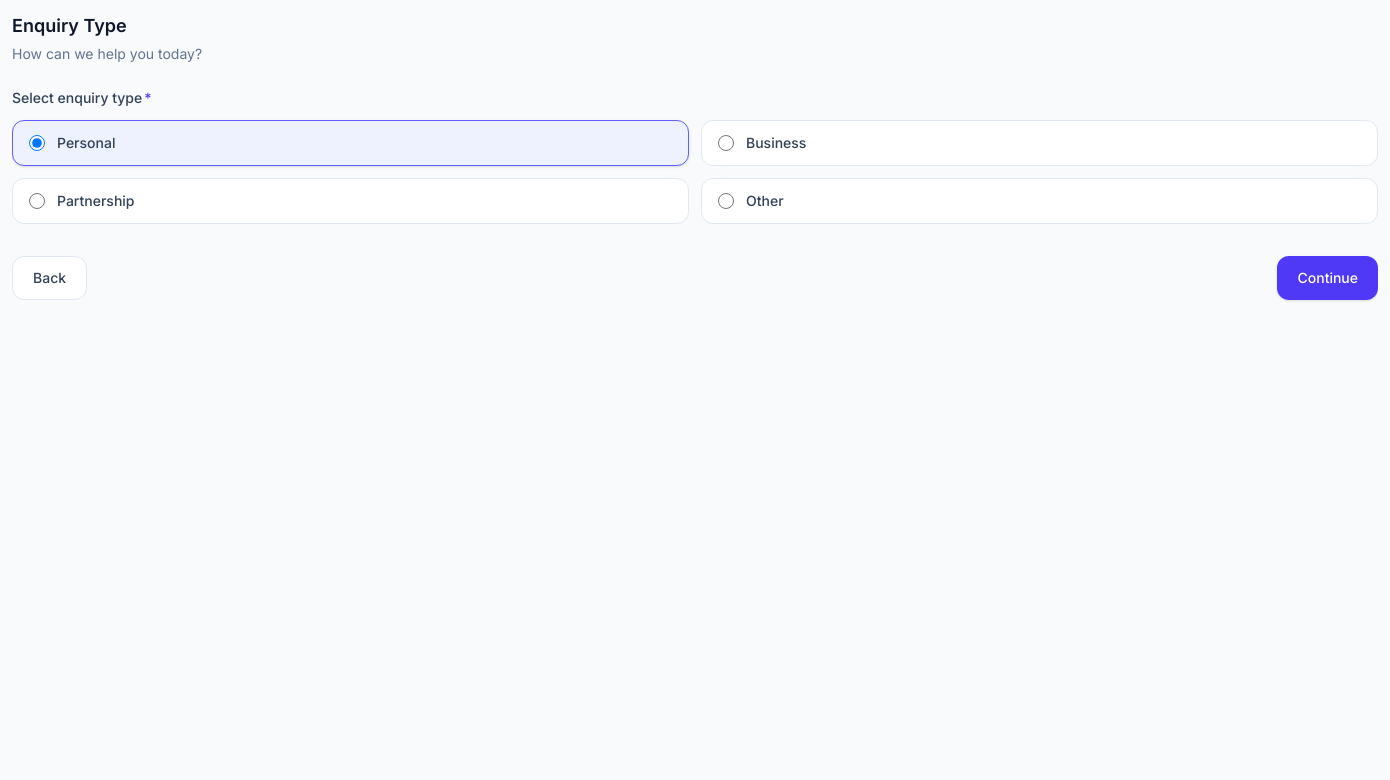
Step2EnquiryType conditional fields › shows company fields for Business enquiry type
Step 1. Click the radio button labelled "Business" → click(726, 143), box [718,135,734,151]
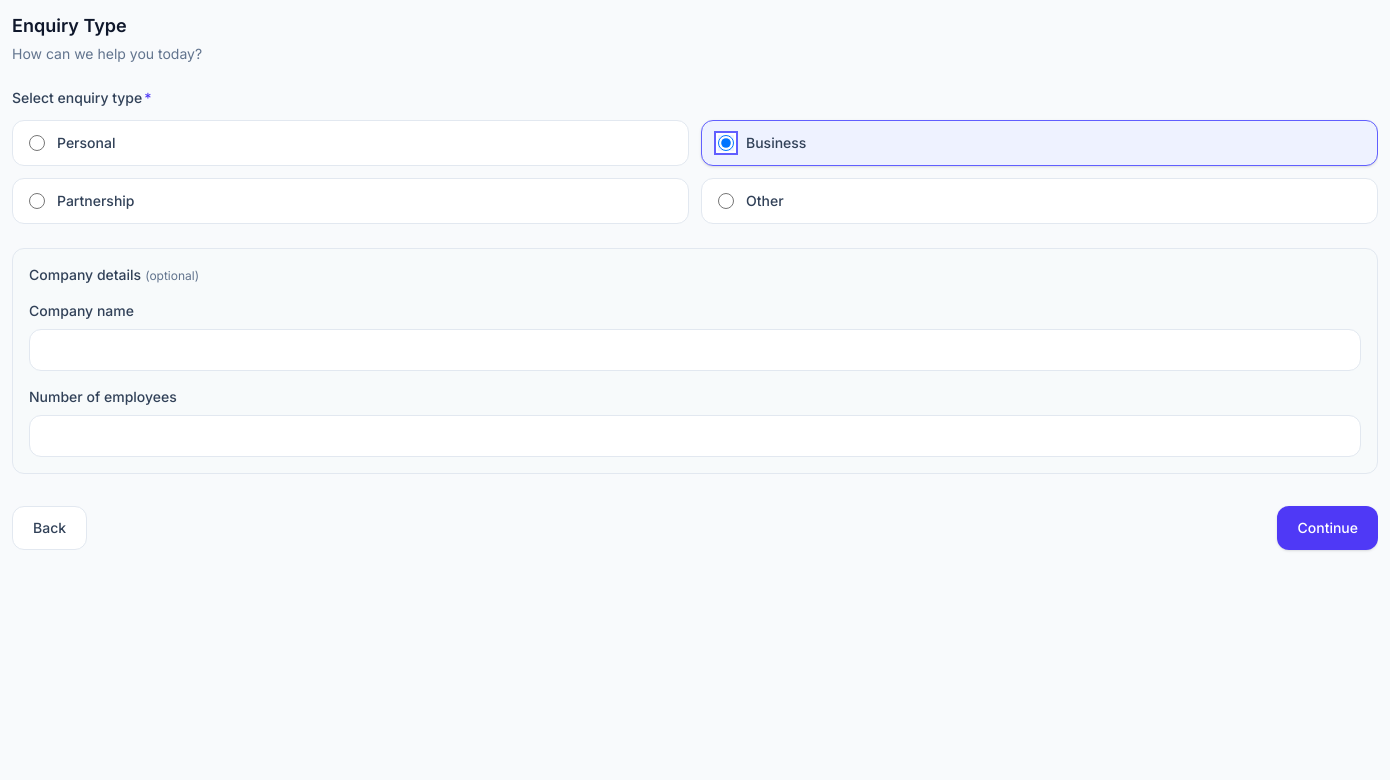
Expected: the field labelled "Company name" is shown, [29,329,1361,371]
Expected: the element with test id "company-fields" is shown, [12,248,1378,474]
